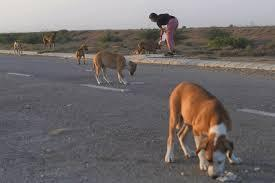normal_dogs: (162, 75, 238, 183), (94, 46, 144, 92), (74, 38, 92, 74), (36, 24, 58, 53), (7, 32, 27, 63)
